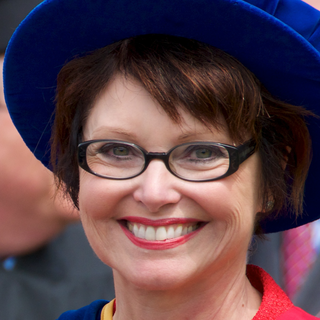eye: (177, 142, 225, 165), (97, 141, 143, 164)
